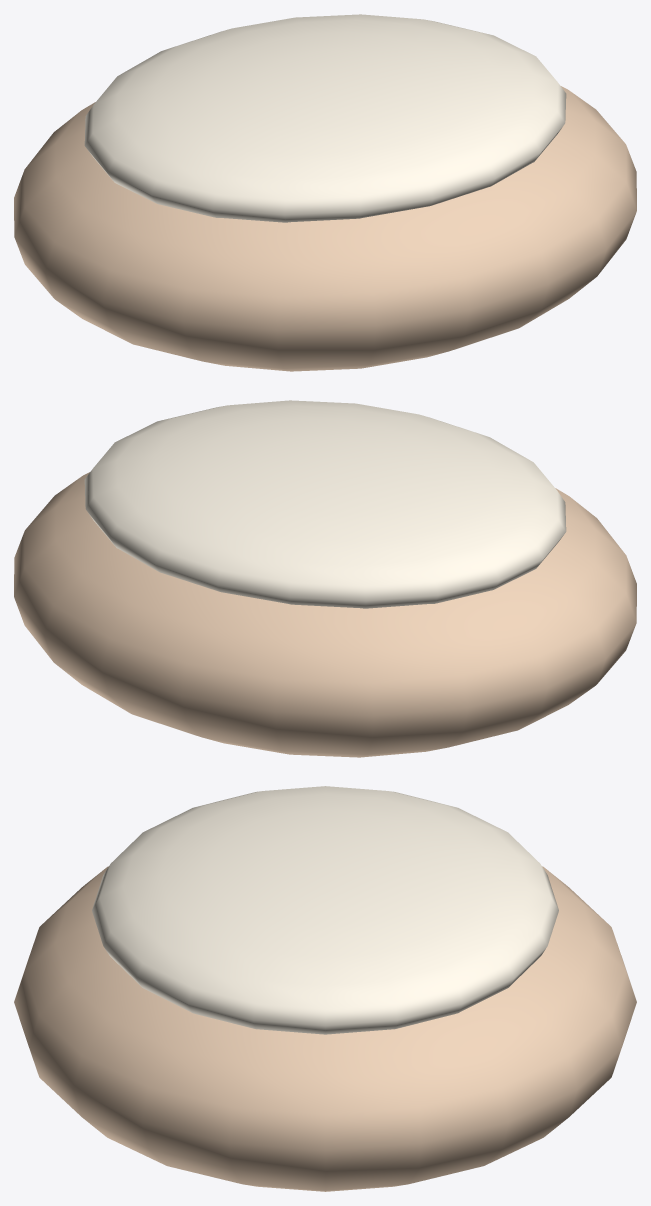
Rendered from basket.glb.
3 renders of one model, top to bottom at view 1: azimuth 30°, elevation 25°; view 2: azimuth 150°, elevation 25°; view 3: azimuth 270°, elevation 25°, orthographic. The views are drawn at different scales.
Visible parts, largest first — view 1: basket, cushion; view 2: basket, cushion; view 3: basket, cushion.
Boxes of the visible parts, <box> form: basket: <box>14,86,636,371</box>; cushion: <box>84,14,566,222</box>; basket: <box>14,472,636,757</box>; cushion: <box>84,400,566,608</box>; basket: <box>14,866,636,1191</box>; cushion: <box>92,786,558,1034</box>.
Bounding box in the file's own units: 0.9 × 0.37 × 0.8.
